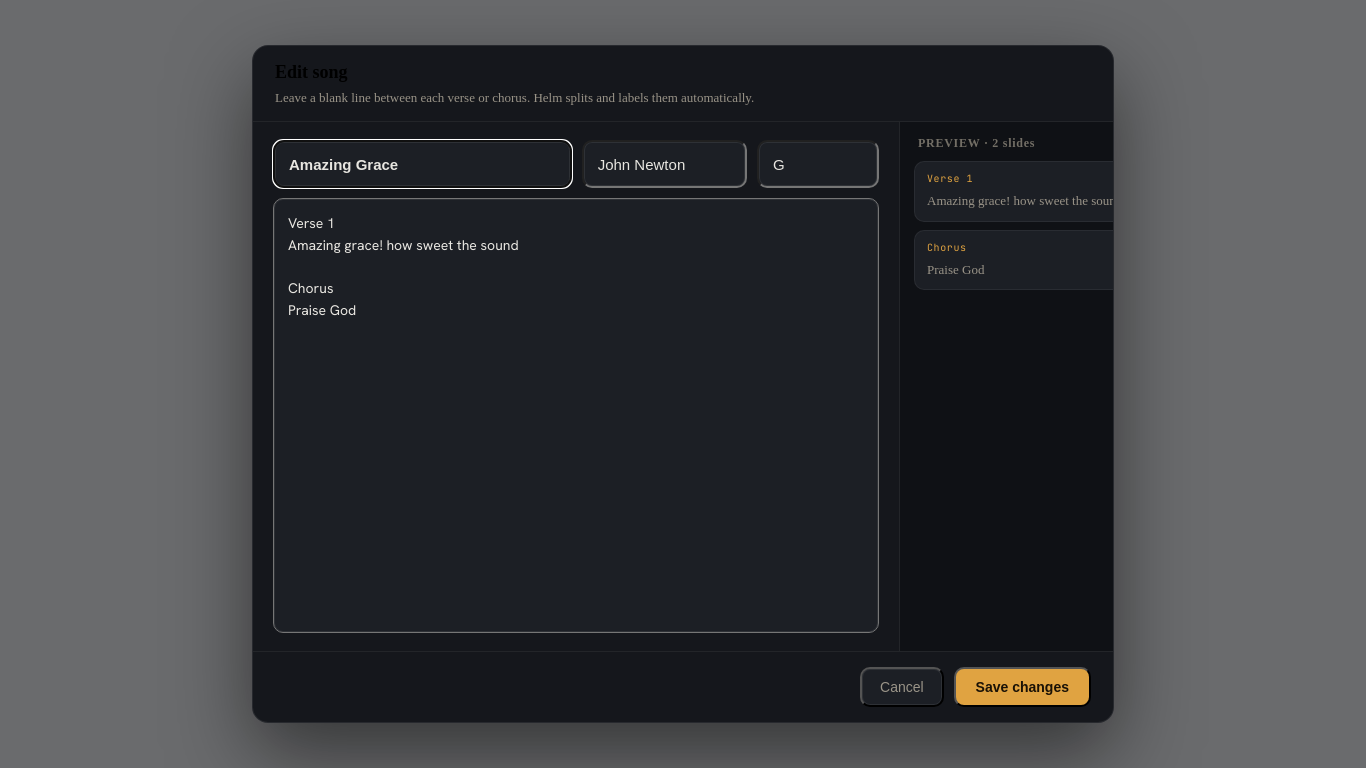
Scenario: QuickAdd edit mode › a failed update keeps the modal open with the text intact
Click the button "Save changes". click: point(1022, 687)
box: [954,667,1091,707]
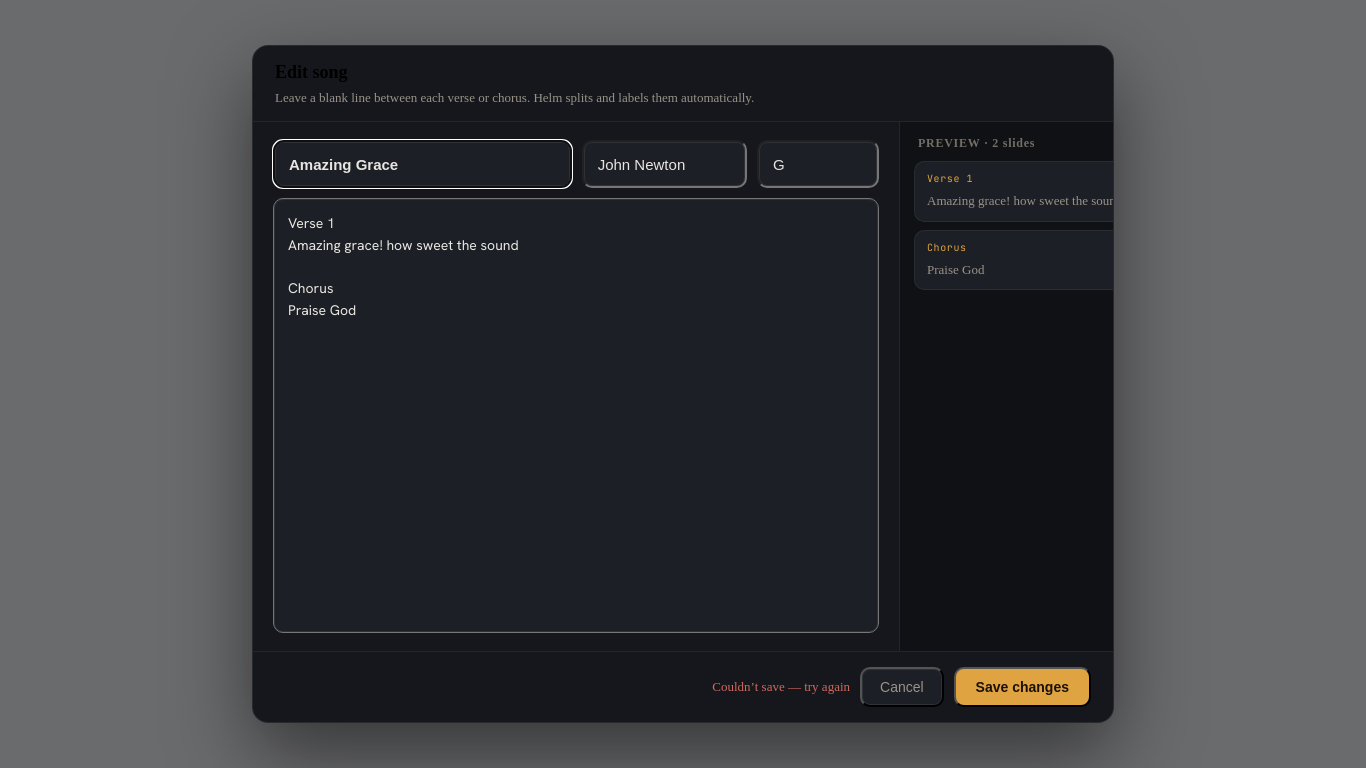
Expected: the text "Couldn’t save — try again" is shown, [712,679,850,695]
